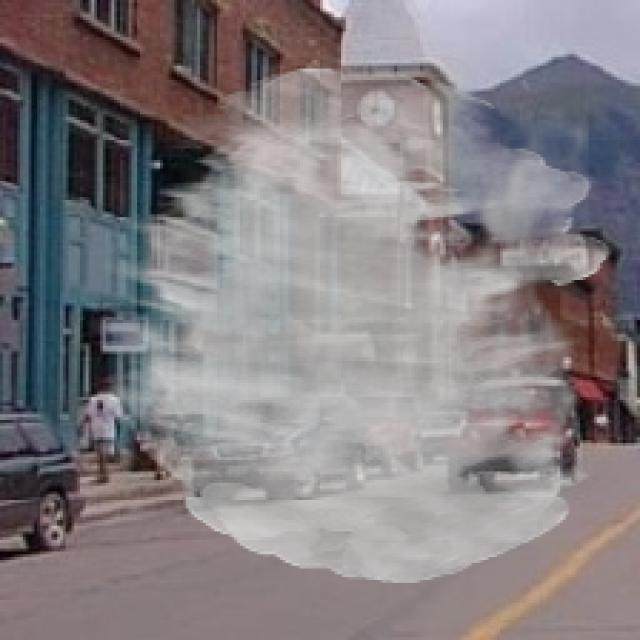smoke: (89, 66, 612, 583)
